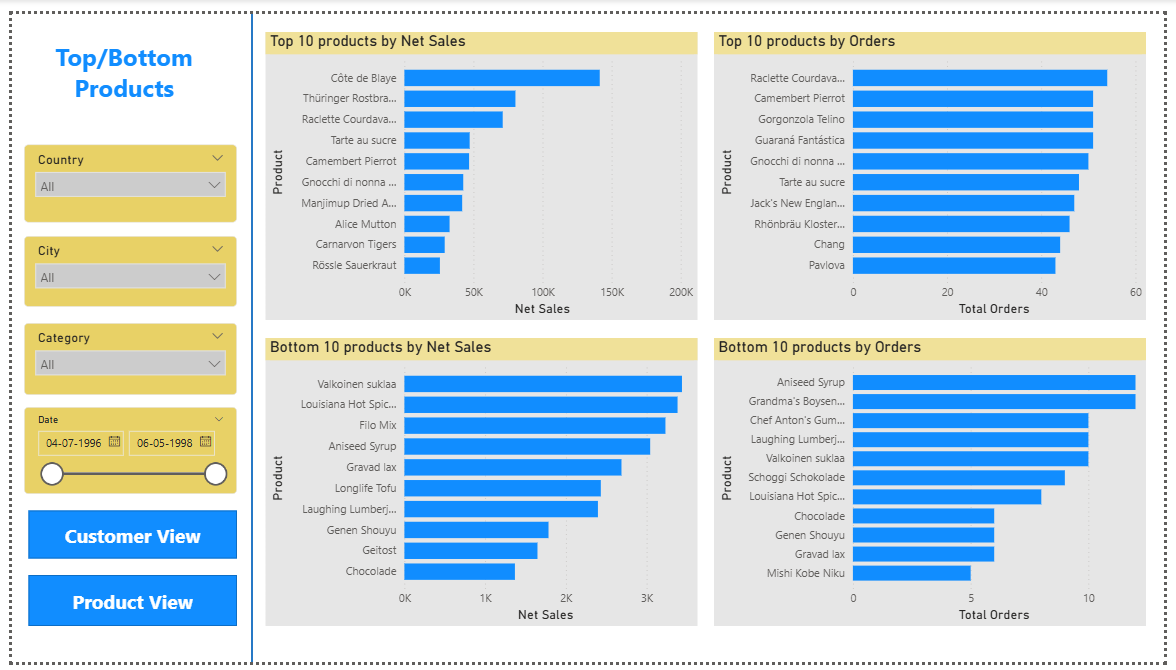

Layout of this report page (visuals, bound fields, positions):
{"tool":"powerbi","page":{"name":"Top/Bottom Results","canvas":[1280,720],"ordinal":2},"visuals":[{"type":"slicer","fields":{"Values":["Customers.Country"]},"box":[13.3,145,236.7,86.7],"z":0},{"type":"slicer","fields":{"Values":["Customers.City"]},"box":[13.3,246.7,236.7,78.3],"z":1000},{"type":"slicer","fields":{"Values":["Categories.CategoryName"]},"box":[13.3,343.3,236.7,80],"z":2000},{"type":"slicer","fields":{"Values":["Date Table.Date"]},"box":[13.3,436.7,236.7,96.7],"z":3000},{"type":"textbox","box":[26,24,196,100],"z":4000},{"type":"shape","box":[238.3,0,56.7,720],"z":5000},{"type":"clusteredBarChart","title":"Top 10 products by Net Sales","fields":{"Y":["Order_Details.Net Sales"],"Category":["Products.ProductName"]},"box":[281.7,20,480,320],"z":6000},{"type":"clusteredBarChart","title":"Bottom 10 products by Net Sales","fields":{"Y":["Order_Details.Net Sales"],"Category":["Products.ProductName"]},"box":[281.7,360,480,320],"z":7000},{"type":"clusteredBarChart","title":"Top 10 products by Orders","fields":{"Category":["Products.ProductName"],"Y":["Order_Details.Total Orders"]},"box":[780,20,480,320],"z":8000},{"type":"clusteredBarChart","title":"Bottom 10 products by Orders","fields":{"Category":["Products.ProductName"],"Y":["Order_Details.Total Orders"]},"box":[780,360,480,320],"z":9000},{"type":"shape","box":[18.3,551.7,231.7,53.3],"z":15000},{"type":"shape","box":[18.3,623.3,231.7,56.7],"z":16000}]}

Visuals, with their boxes in screenshot pixels (x1, y1, x2, y2), scaled from the page's 1280x720 canvas onto the 1176x670 screenshot:
slicer - Customers.Country: [12,135,230,216]
slicer - Customers.City: [12,230,230,302]
slicer - Categories.CategoryName: [12,319,230,394]
slicer - Date Table.Date: [12,406,230,496]
textbox: [24,22,204,115]
shape: [219,0,271,669]
"Top 10 products by Net Sales" clusteredBarChart: [259,19,700,316]
"Bottom 10 products by Net Sales" clusteredBarChart: [259,335,700,633]
"Top 10 products by Orders" clusteredBarChart: [717,19,1158,316]
"Bottom 10 products by Orders" clusteredBarChart: [717,335,1158,633]
shape: [17,513,230,563]
shape: [17,580,230,633]
